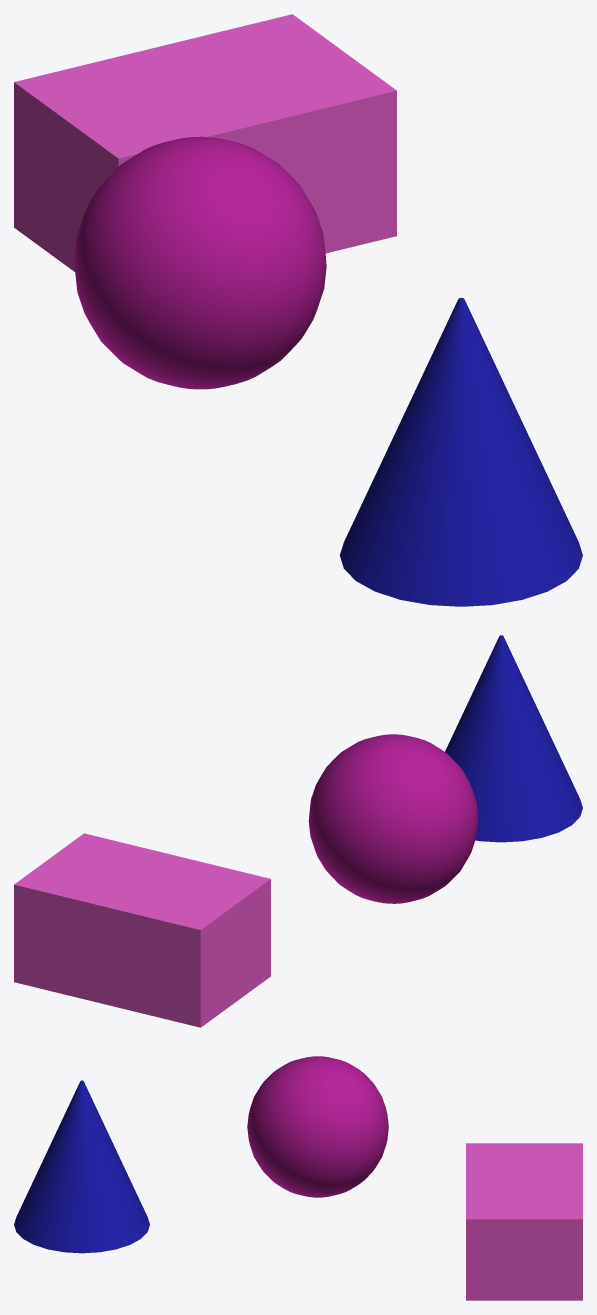
File: simple_001_Camera_00.dae
The picture shows the model from 3 angles, top to bottom: view 1: azimuth 30°, elevation 25°; view 2: azimuth 150°, elevation 25°; view 3: azimuth 270°, elevation 25°; orthographic projection. The views are drawn at different scales.
Parts seen in each view (by area): view 1: Box01, Sphere01, Cone01; view 2: Box01, Sphere01, Cone01; view 3: Box01, Sphere01, Cone01.
Part boxes in pixels (bbox=[...]): Box01: bbox=[14, 14, 396, 271]; Sphere01: bbox=[74, 136, 326, 389]; Cone01: bbox=[340, 297, 582, 606]; Box01: bbox=[14, 833, 270, 1027]; Sphere01: bbox=[308, 734, 477, 903]; Cone01: bbox=[445, 635, 582, 842]; Box01: bbox=[466, 1143, 582, 1300]; Sphere01: bbox=[247, 1056, 388, 1197]; Cone01: bbox=[14, 1080, 149, 1253].
Size of the model in its own units: 1766 by 3547 by 1019.
